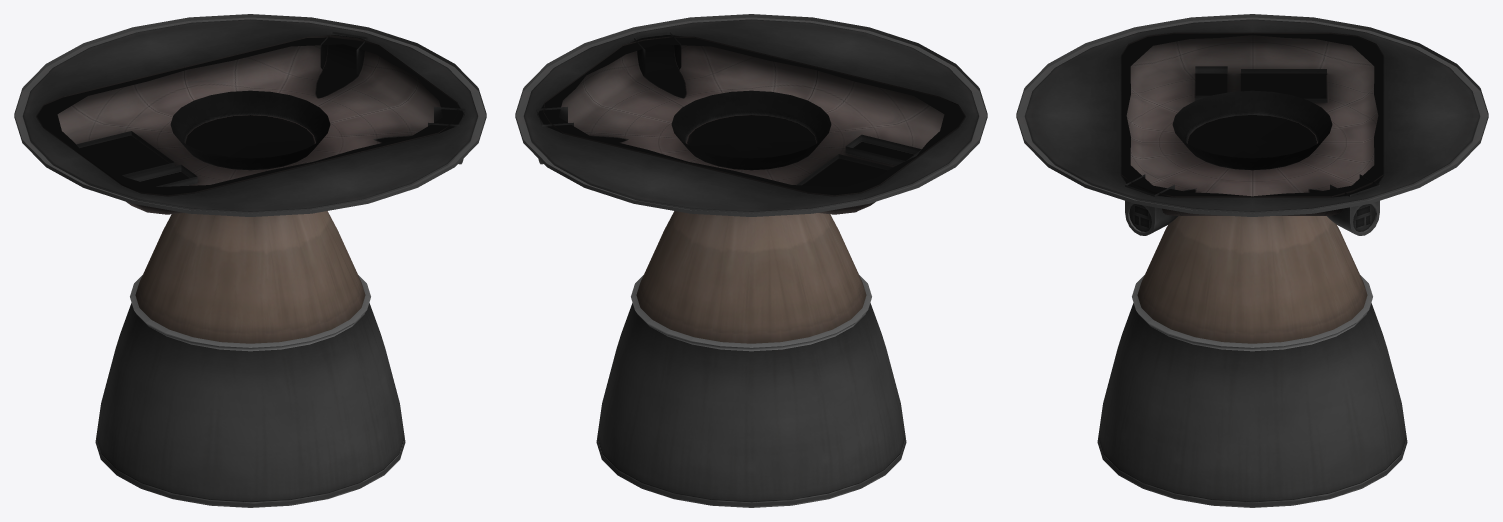
File: Apollo_Block2_ServiceEngine_AO.dae
3 views of the same model, side by side, from view 1: azimuth 30°, elevation 25°; view 2: azimuth 150°, elevation 25°; view 3: azimuth 270°, elevation 25° (orthographic).
Parts seen in each view (by area): view 1: Apollo_ServiceEngine_Merged2; view 2: Apollo_ServiceEngine_Merged2; view 3: Apollo_ServiceEngine_Merged2.
Part boxes in pixels (bbox=[...]): Apollo_ServiceEngine_Merged2: bbox=[14, 14, 486, 507]; Apollo_ServiceEngine_Merged2: bbox=[515, 14, 987, 507]; Apollo_ServiceEngine_Merged2: bbox=[1016, 14, 1488, 507].
Bounding box in the file's own units: 7500 × 5765 × 7500.
